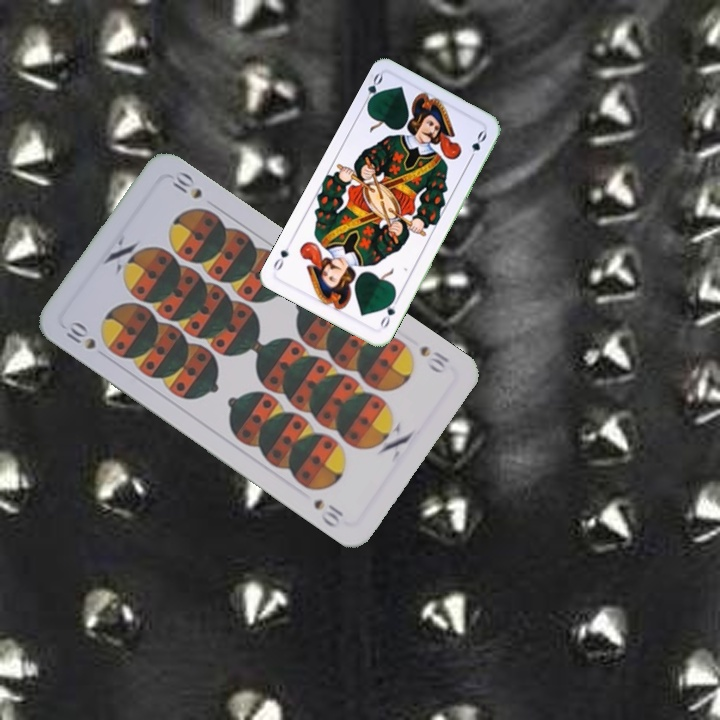GO: (359, 70, 386, 110), (375, 294, 401, 331)
S10: (416, 341, 453, 376), (62, 319, 99, 353)
